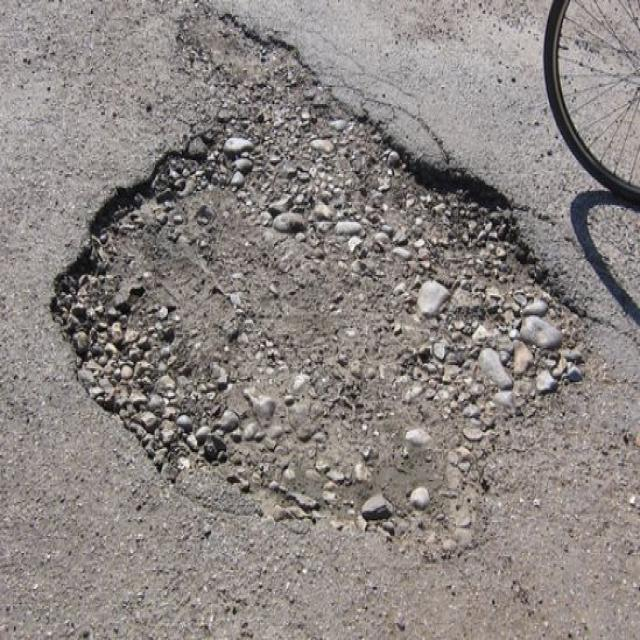pothole: (44, 6, 598, 567)
